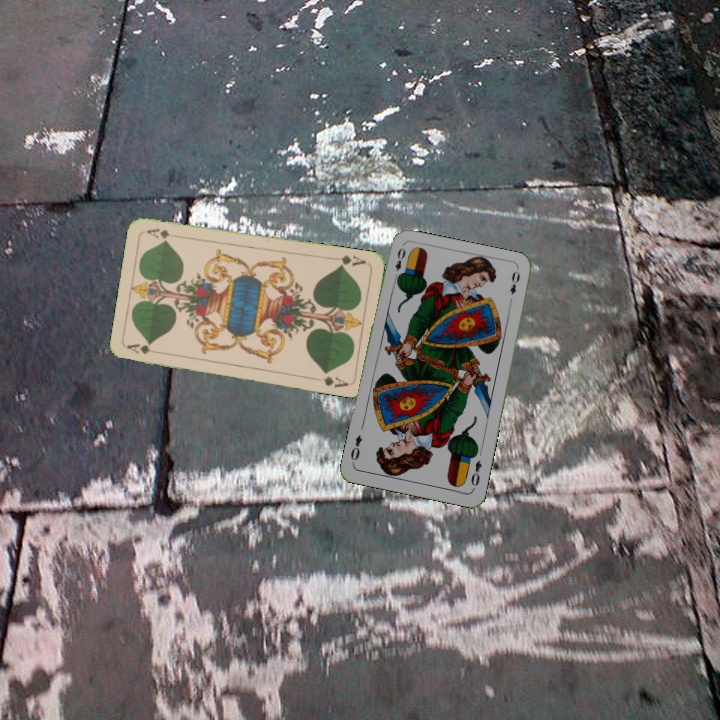EO: (390, 244, 408, 283), (467, 456, 484, 492)
GA: (328, 251, 368, 270), (124, 340, 164, 357)
